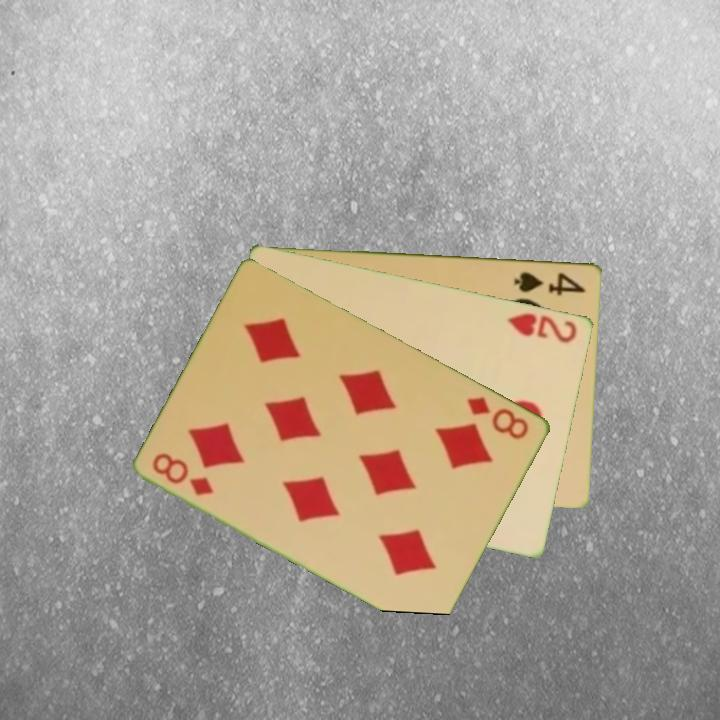2h: (503, 309, 581, 346)
4s: (510, 268, 589, 297)
8d: (463, 392, 533, 443), (149, 449, 218, 499)
